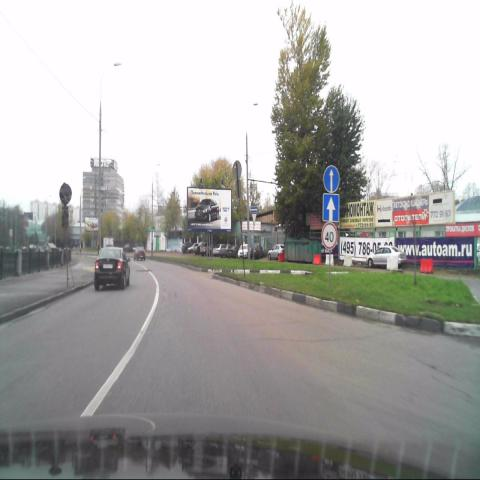4_1_1: (324, 164, 340, 193)
